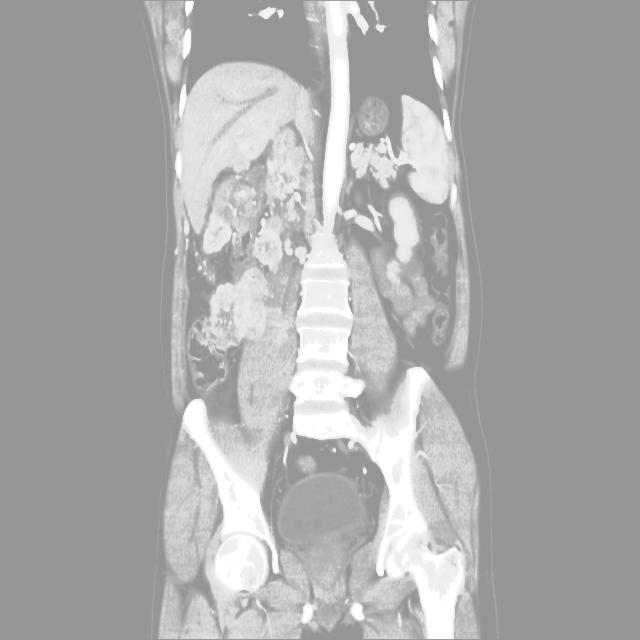TUMOR: (89, 223, 510, 509)
